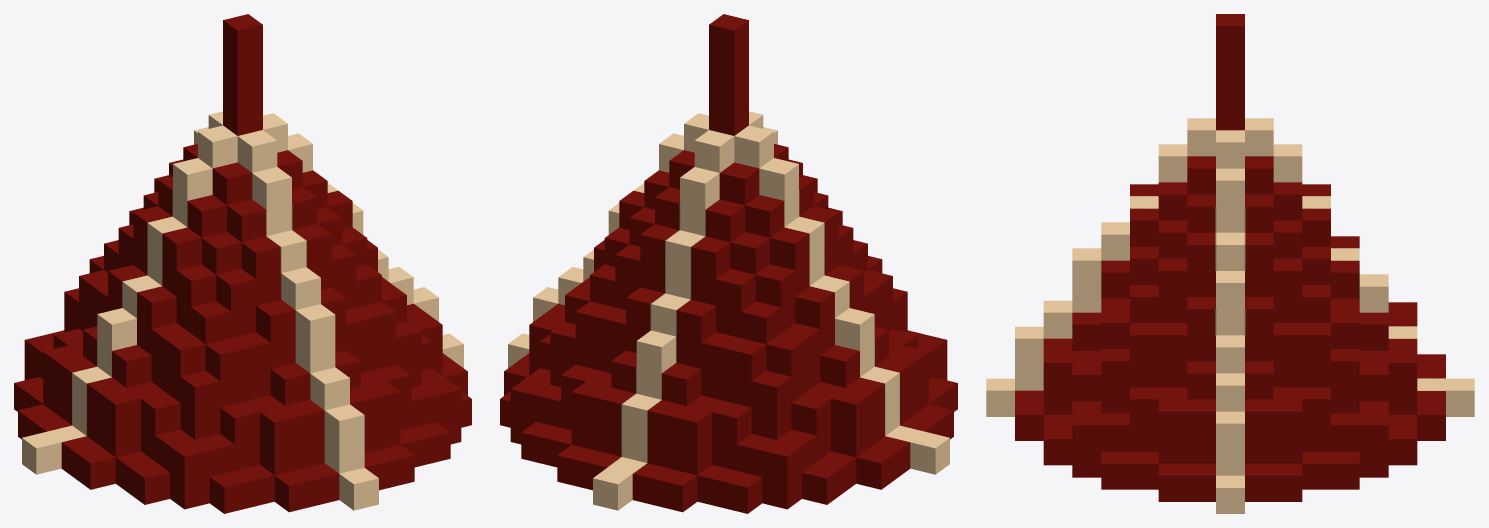
File: ninethModelRoof.fbx
3 renders of one model, left to right at view 1: azimuth 30°, elevation 25°; view 2: azimuth 150°, elevation 25°; view 3: azimuth 270°, elevation 25°, orthographic.
Visible parts, largest first — view 1: Cylinder; view 2: Cylinder; view 3: Cylinder.
Boxes of the visible parts, x1=… form: Cylinder: x1=14, y1=14, x2=471, y2=513; Cylinder: x1=500, y1=14, x2=957, y2=513; Cylinder: x1=986, y1=14, x2=1474, y2=513.
Size of the model in its own units: 17 by 15 by 17.
Materials: 1 (1 with a texture image).
